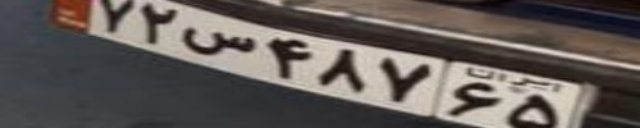2: (140, 3, 176, 44)
4: (264, 36, 313, 79)
5: (506, 92, 562, 127)
6: (448, 80, 501, 119)
7: (376, 57, 430, 102), (99, 0, 133, 32)
8: (314, 47, 361, 92)
sin: (181, 26, 253, 57)
